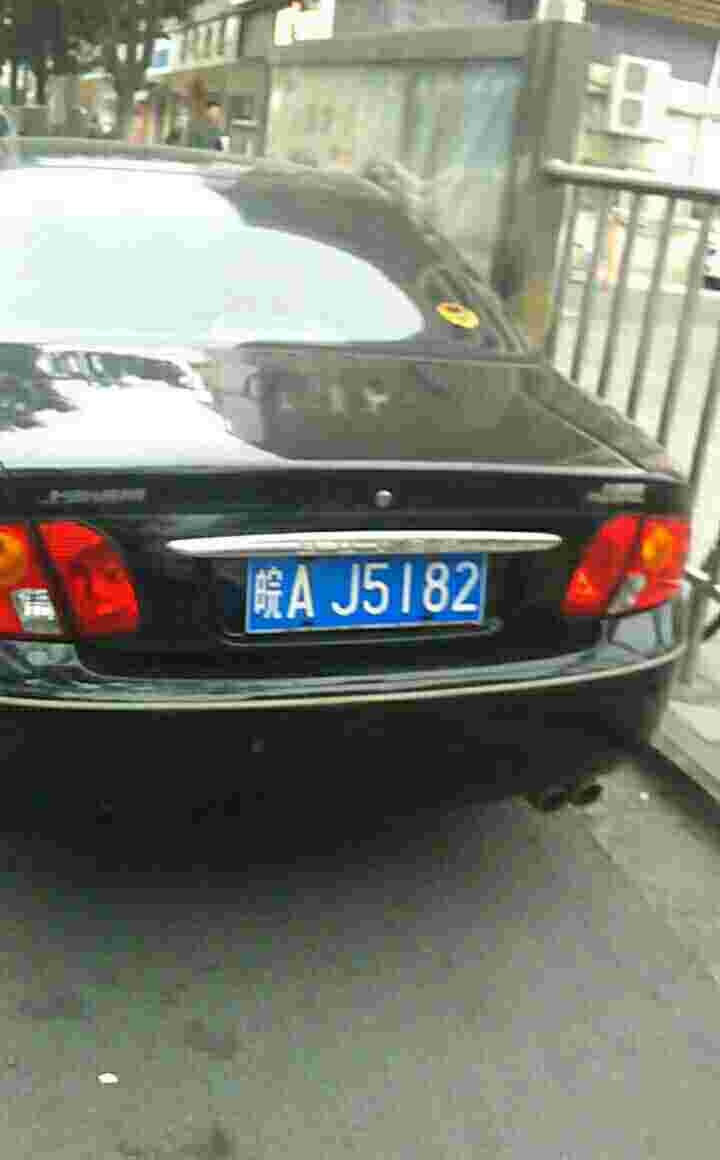plate: (252, 543, 493, 634)
